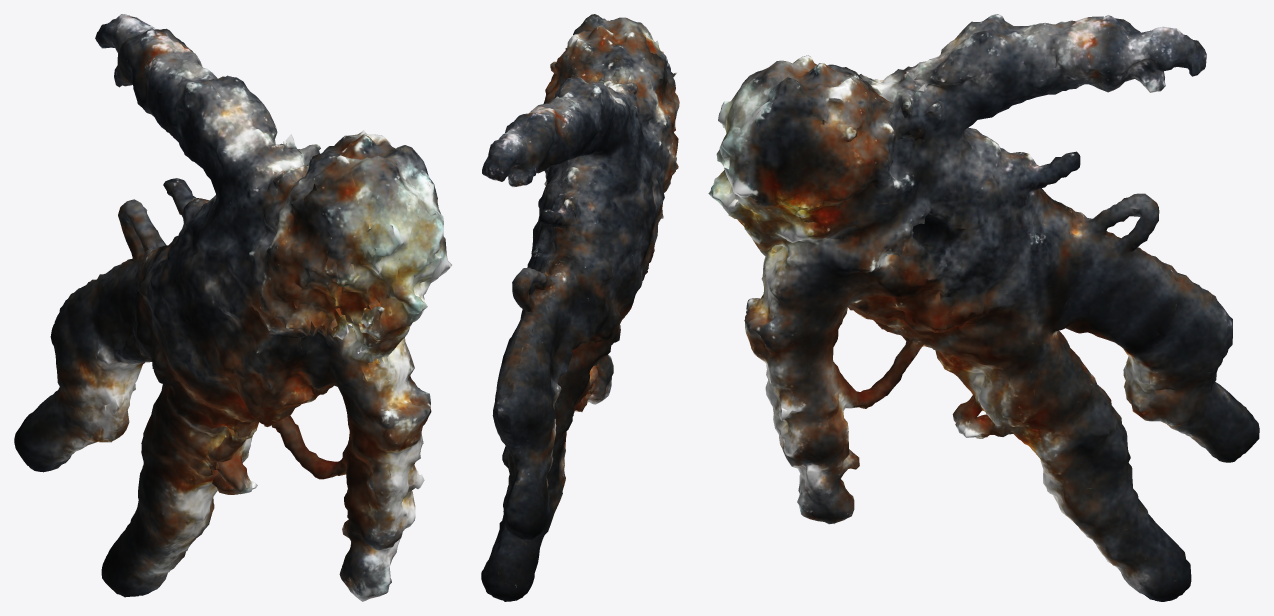
File: astronaut_before.gltf
3 views of the same model, side by side, from view 1: azimuth 30°, elevation 25°; view 2: azimuth 150°, elevation 25°; view 3: azimuth 270°, elevation 25° (orthographic). The views are drawn at different scales.
Parts seen in each view (by area): view 1: model; view 2: model; view 3: model.
Boxes of the visible parts, <box> form: model: <box>14,14,451,601</box>; model: <box>481,14,679,601</box>; model: <box>708,14,1259,601</box>.
Bounding box in the file's own units: 0.3475 × 1.01 × 0.8692.
1 material, 1 textured.
